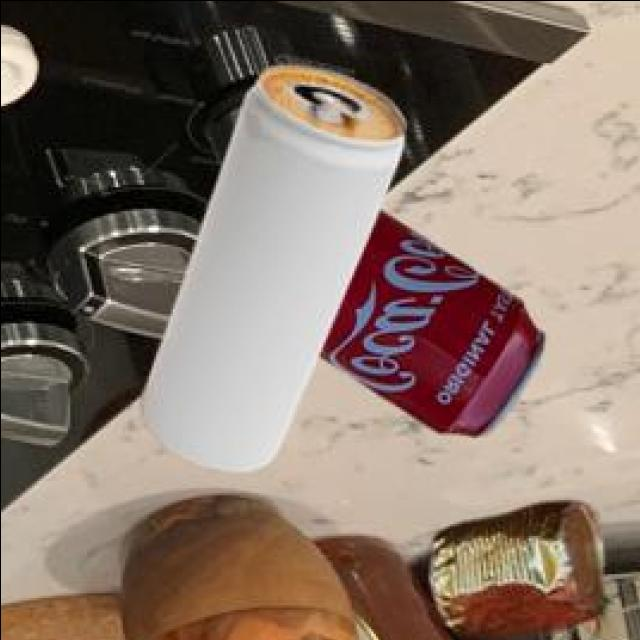logam: (137, 68, 400, 474), (314, 214, 541, 438), (426, 505, 598, 632)
